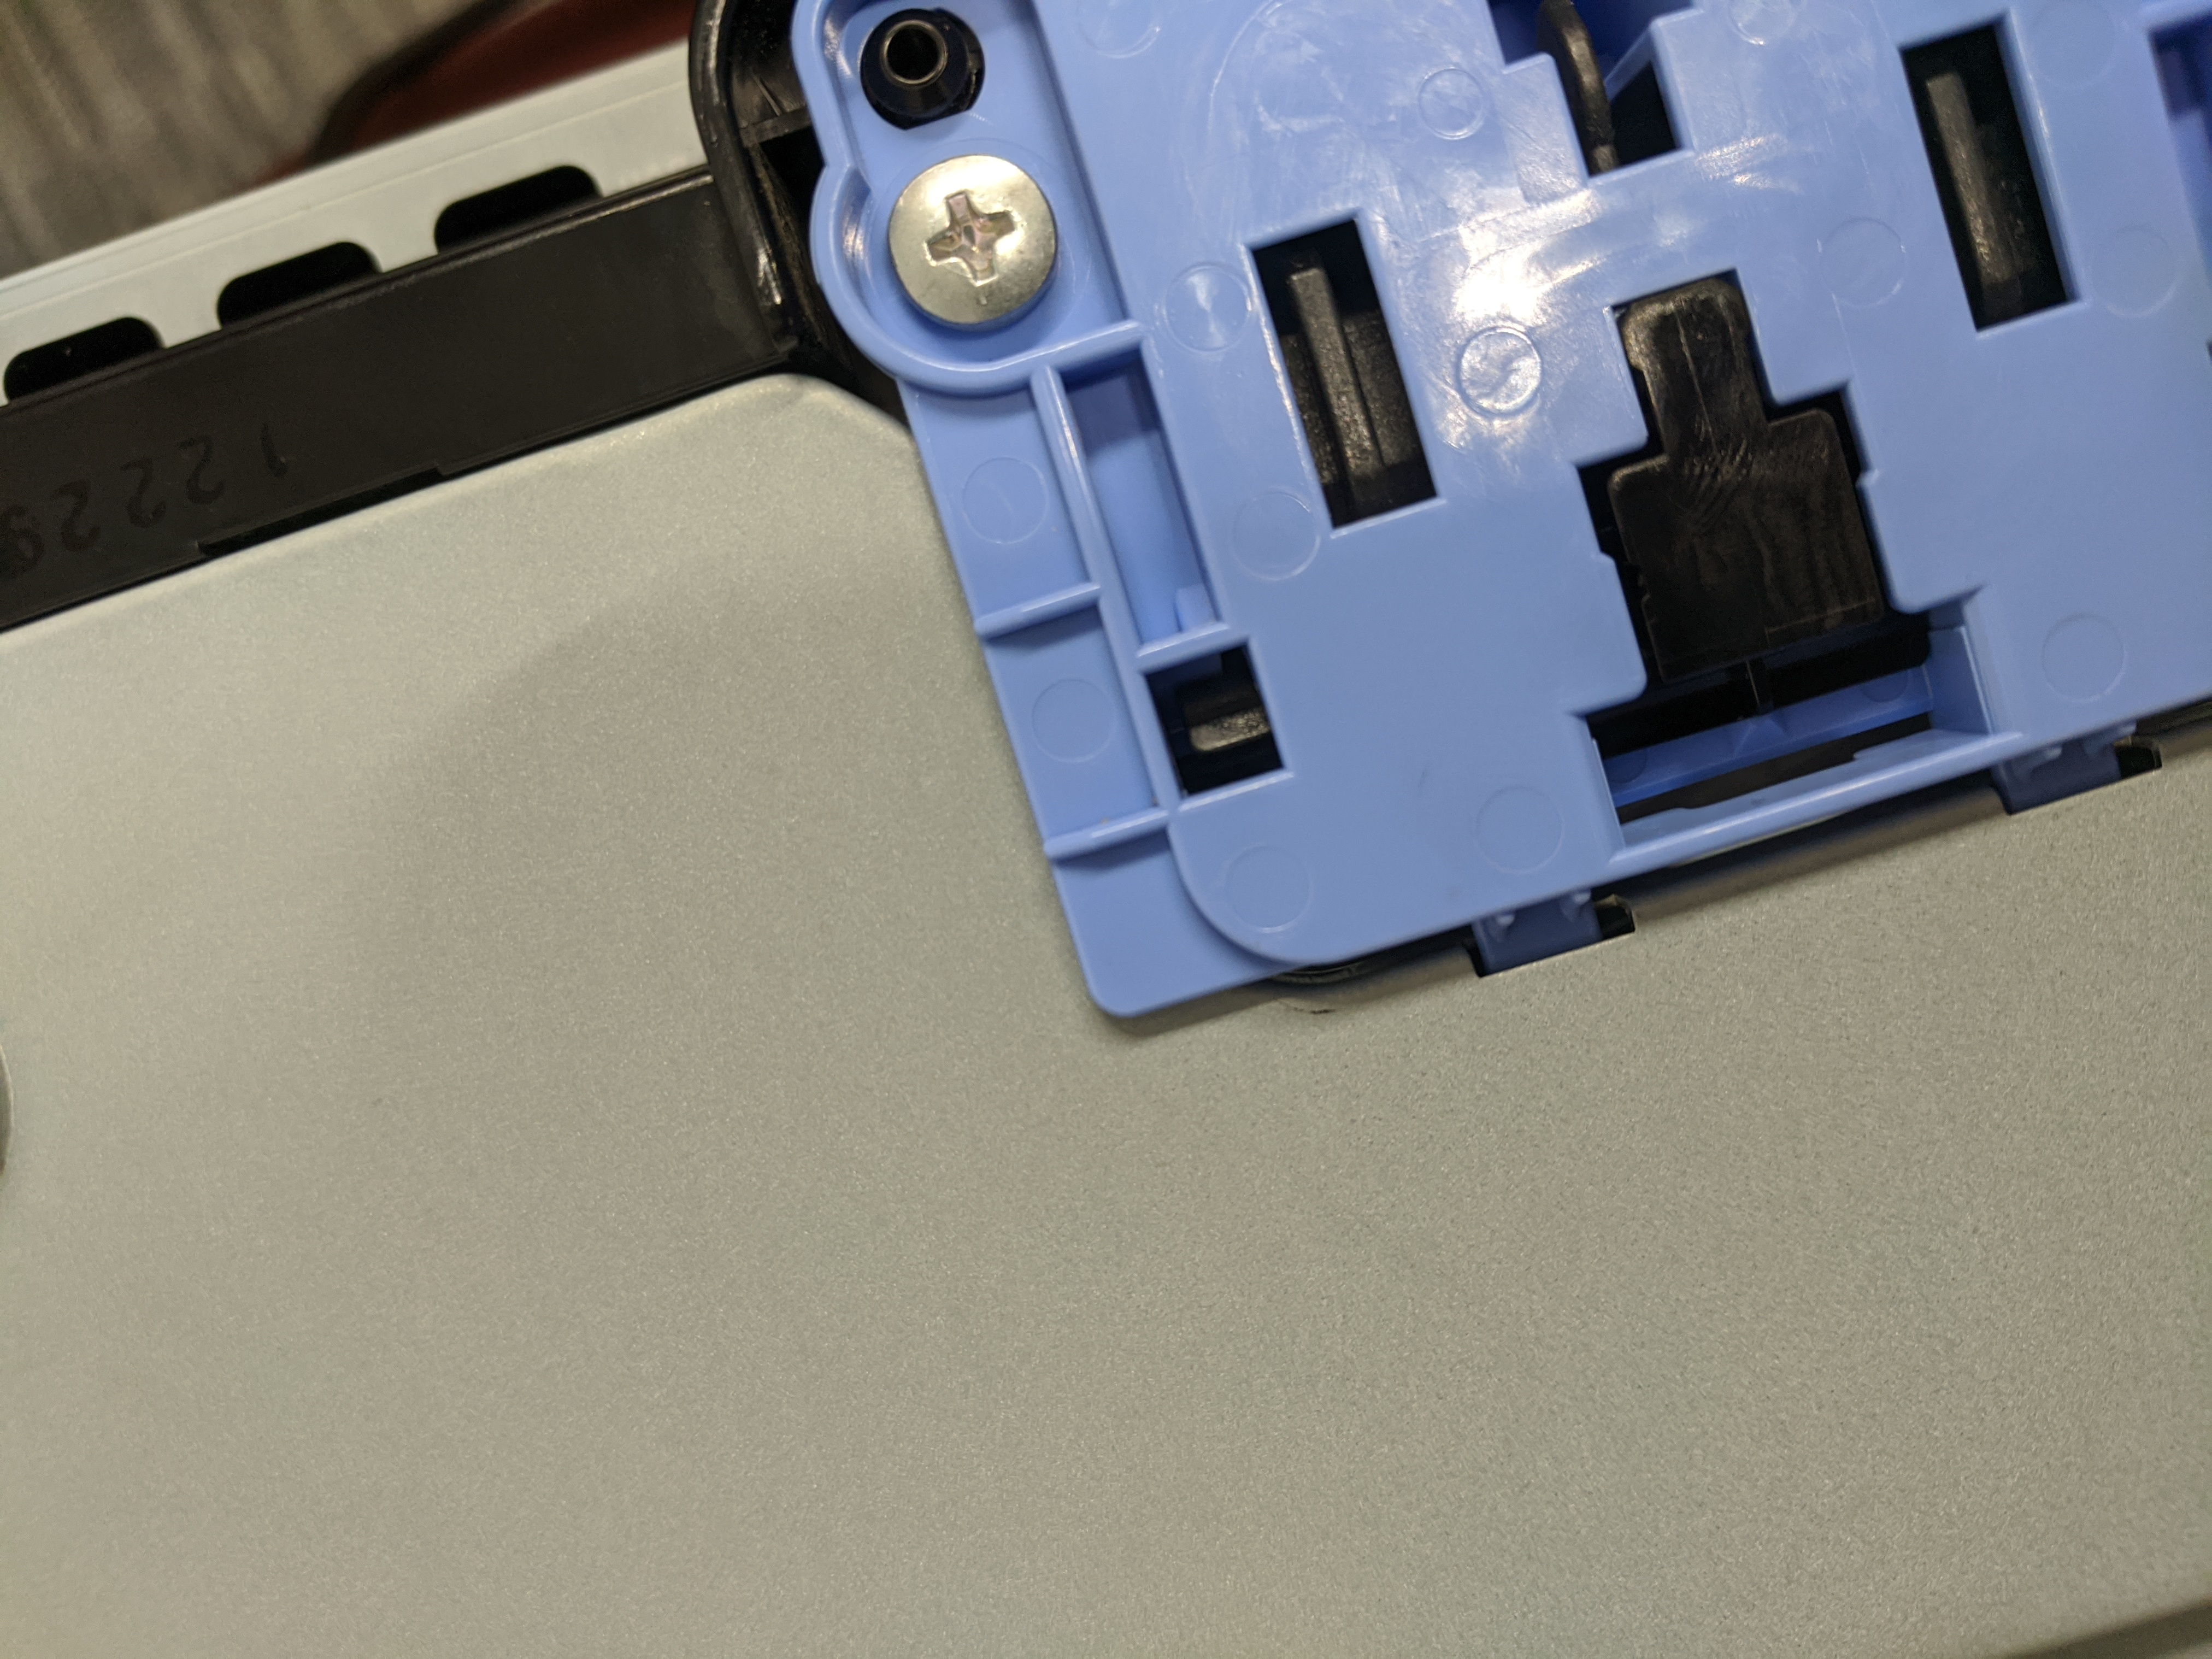cross_recessed_screw: (862, 146, 1073, 317)
